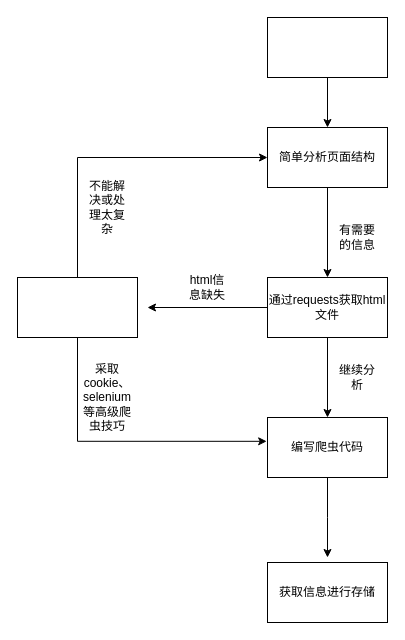
Image size: 405x640. Some labels were removed from this diagram. The centre of each missing label's shape, as x and y in pixels:
"查看原因" belongs at point (77, 307).
"网页" belongs at point (327, 47).
